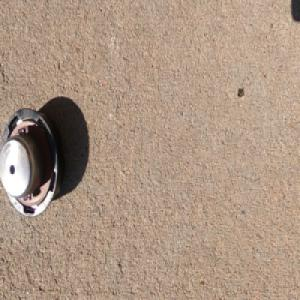FuelCap: (0, 106, 65, 221)
